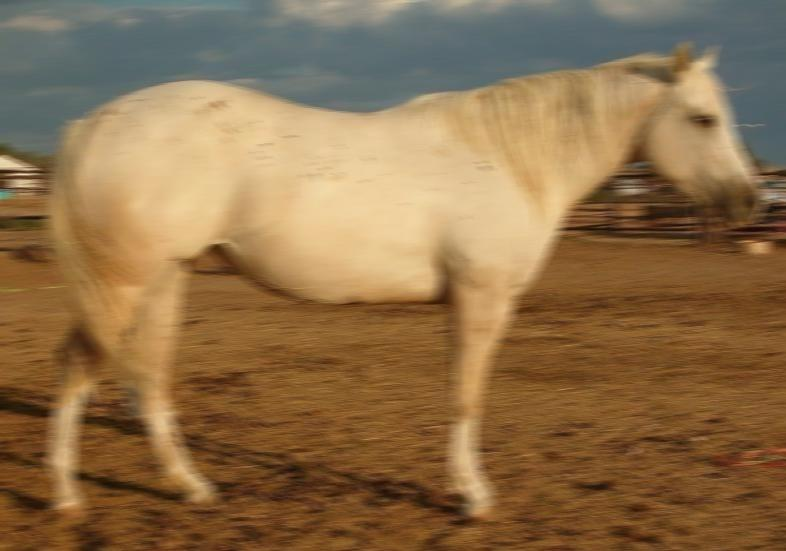horse: (41, 40, 767, 524)
